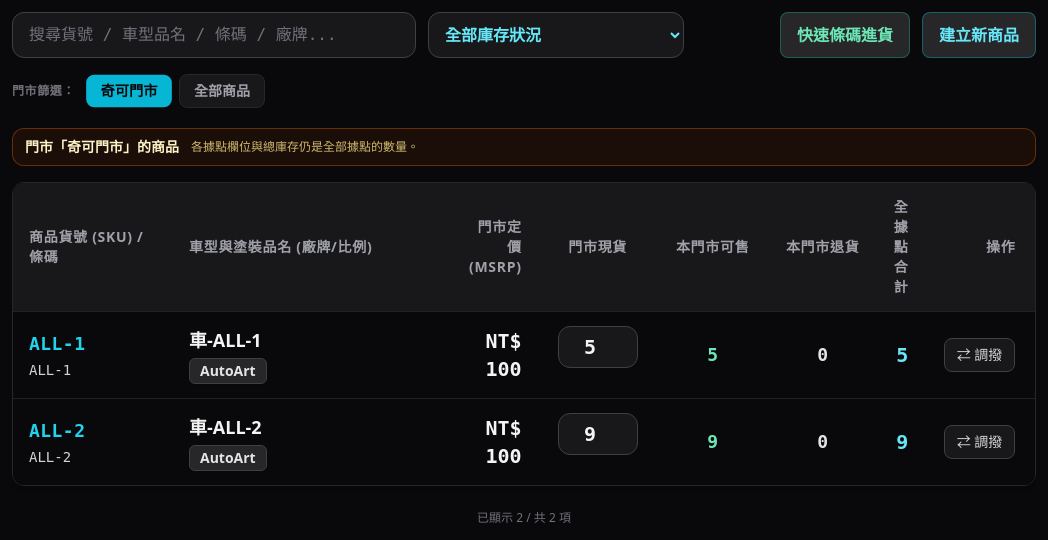
Test: inventory page stock filters › shows nothing for warehouse low stock when there is no 後方倉庫, without a request
This screenshot has width=1048, height=540.
Expected: the text "車-ALL-1" is shown, [189,328,262,352]
Step 1. Select "⚠️ 後方倉庫低庫存 (≤ 2 台)" in the dropdown → (556, 35), box [428,12,684,58]
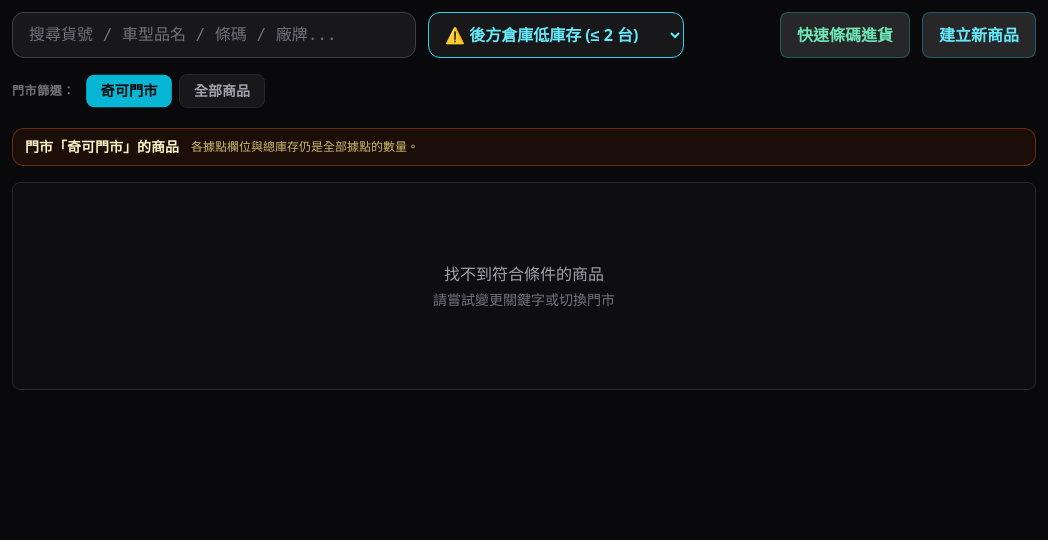
Expected: the text "車-ALL-1" is gone
